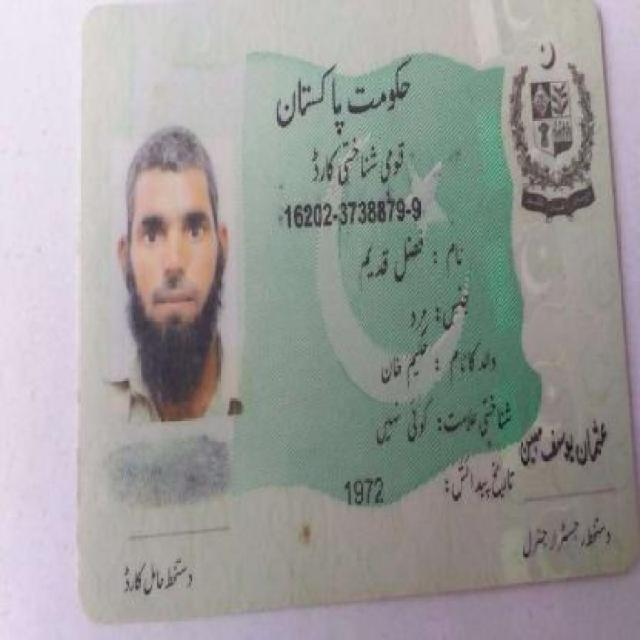Front: (72, 6, 638, 606)
